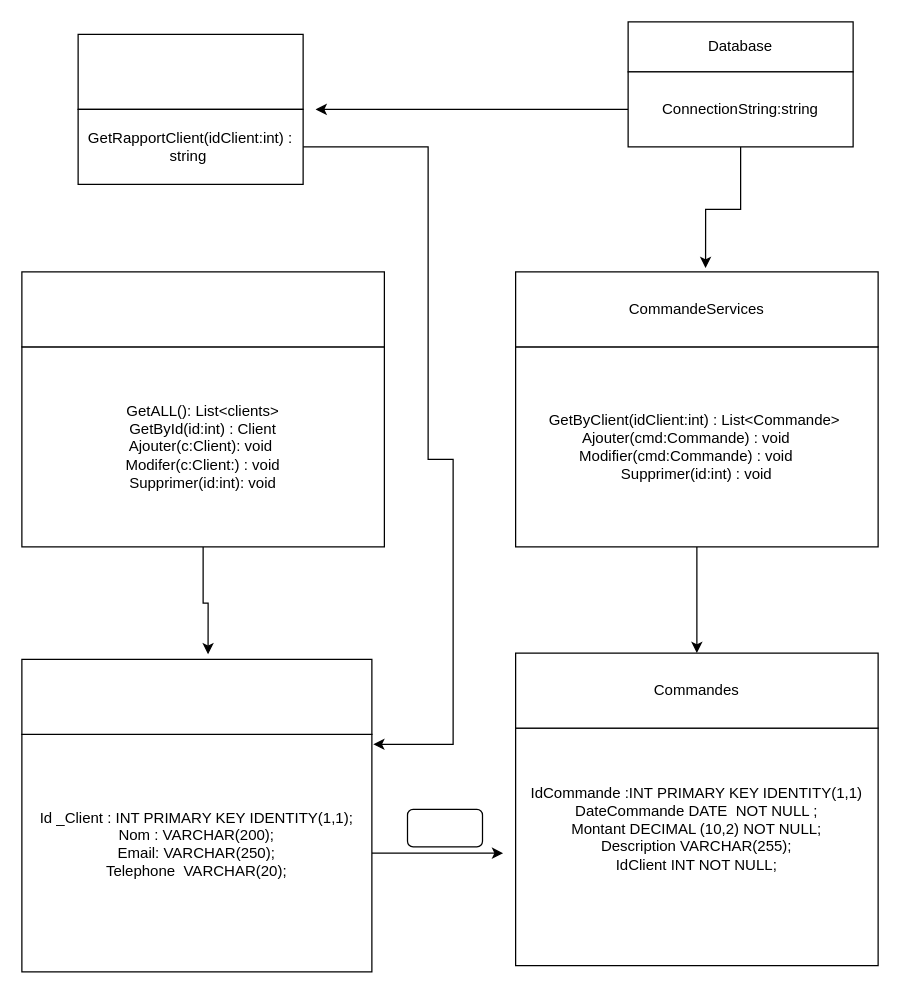
This 900x994 diagram has some shape labels left out. The centre of each missing label's shape, as x and y in pixels:
Clients: [196,696]
ClientServices: [202,309]
possède: [444,827]
RapportServices: [190,71]
